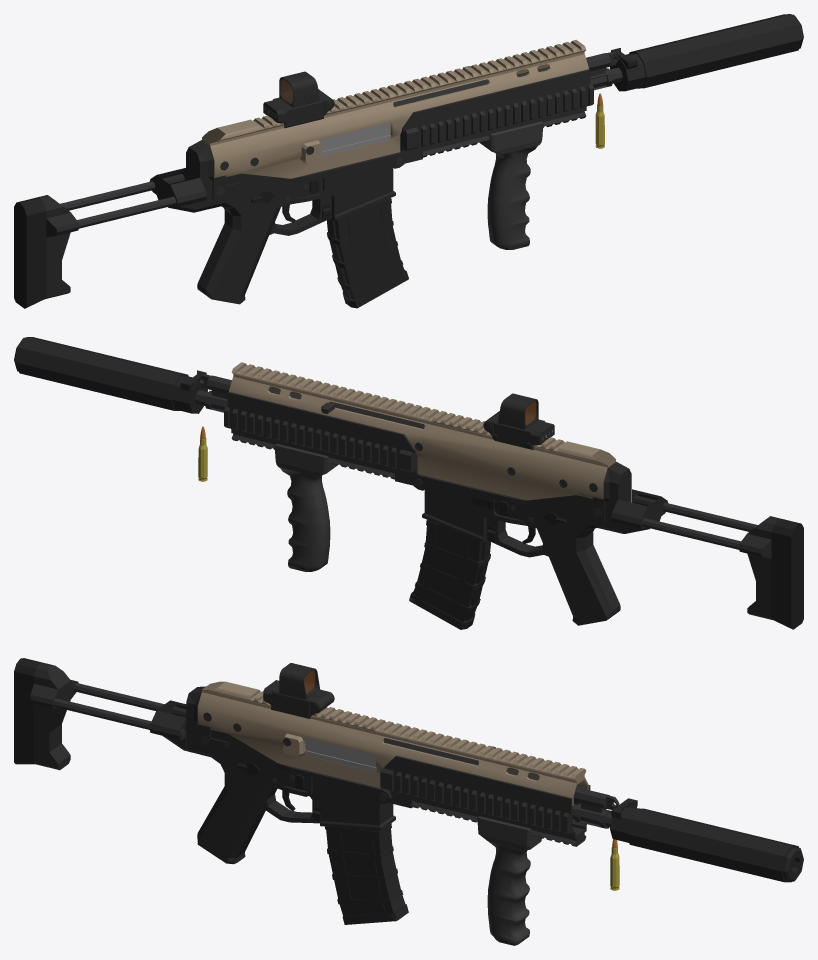
The model's file is scar.glb.
The picture shows the model from 3 angles, top to bottom: view 1: azimuth 30°, elevation 25°; view 2: azimuth 150°, elevation 25°; view 3: azimuth 330°, elevation 25°; orthographic projection.
Parts seen in each view (by area): view 1: Receiver_Upper, Supressor, Magazinr, Grip, Holosight, Buttomrail; view 2: Receiver_Upper, Supressor, Magazinr, Grip, Holosight, Buttomrail; view 3: Receiver_Upper, Supressor, Magazinr, Grip, Holosight, Buttomrail.
Part boxes in pixels (left/top/right/bottom): Receiver_Upper: left=14, top=39, right=637, bottom=308; Supressor: left=610, top=14, right=803, bottom=91; Magazinr: left=326, top=198, right=408, bottom=308; Grip: left=481, top=121, right=543, bottom=249; Holosight: left=263, top=71, right=334, bottom=128; Buttomrail: left=423, top=111, right=586, bottom=157; Receiver_Upper: left=180, top=362, right=803, bottom=629; Supressor: left=14, top=337, right=207, bottom=413; Magazinr: left=409, top=520, right=490, bottom=629; Grip: left=274, top=443, right=336, bottom=571; Holosight: left=483, top=393, right=554, bottom=449; Buttomrail: left=231, top=433, right=394, bottom=479; Receiver_Upper: left=14, top=658, right=637, bottom=864; Supressor: left=610, top=807, right=803, bottom=882; Magazinr: left=324, top=823, right=408, bottom=924; Grip: left=477, top=816, right=541, bottom=945; Holosight: left=263, top=663, right=334, bottom=718; Buttomrail: left=411, top=800, right=586, bottom=846.
Bounding box in the file's own units: 8.73 × 2.58 × 0.5493.
Materials: 13 (8 with a texture image).
